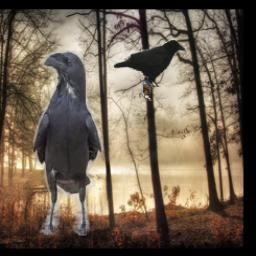Crow: (32, 50, 102, 235), (114, 36, 189, 87)
Cuckoo: (141, 80, 160, 101)
